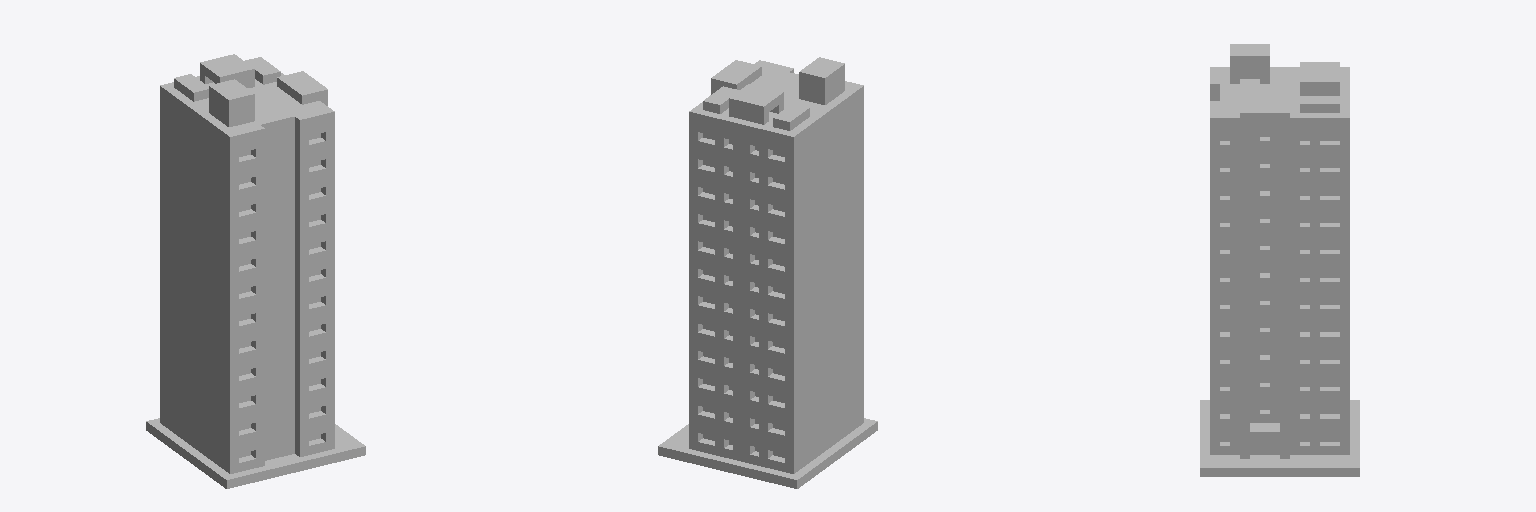
File: House3.obj
3 renders of one model, left to right at view 1: azimuth 30°, elevation 25°; view 2: azimuth 150°, elevation 25°; view 3: azimuth 270°, elevation 25°, orthographic.
Size of the model in its own units: 16 by 41 by 16.